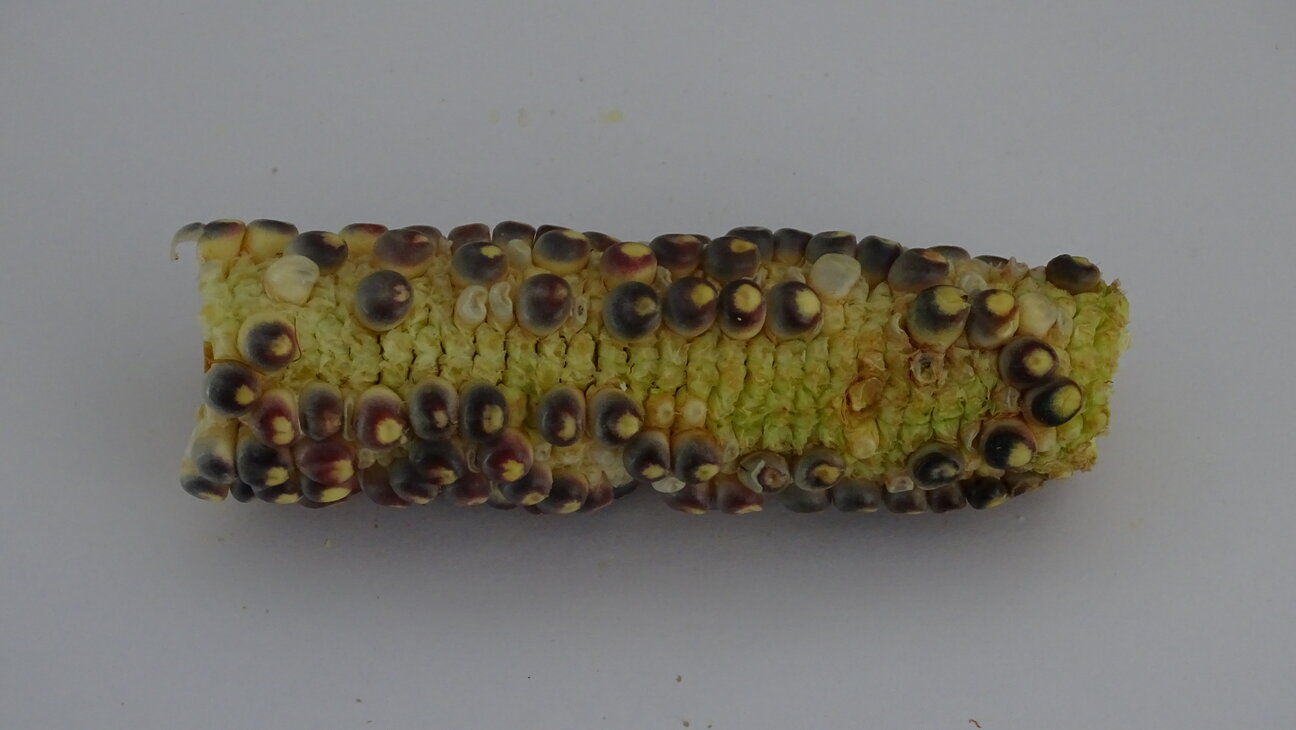corn: (764, 279, 828, 335)
